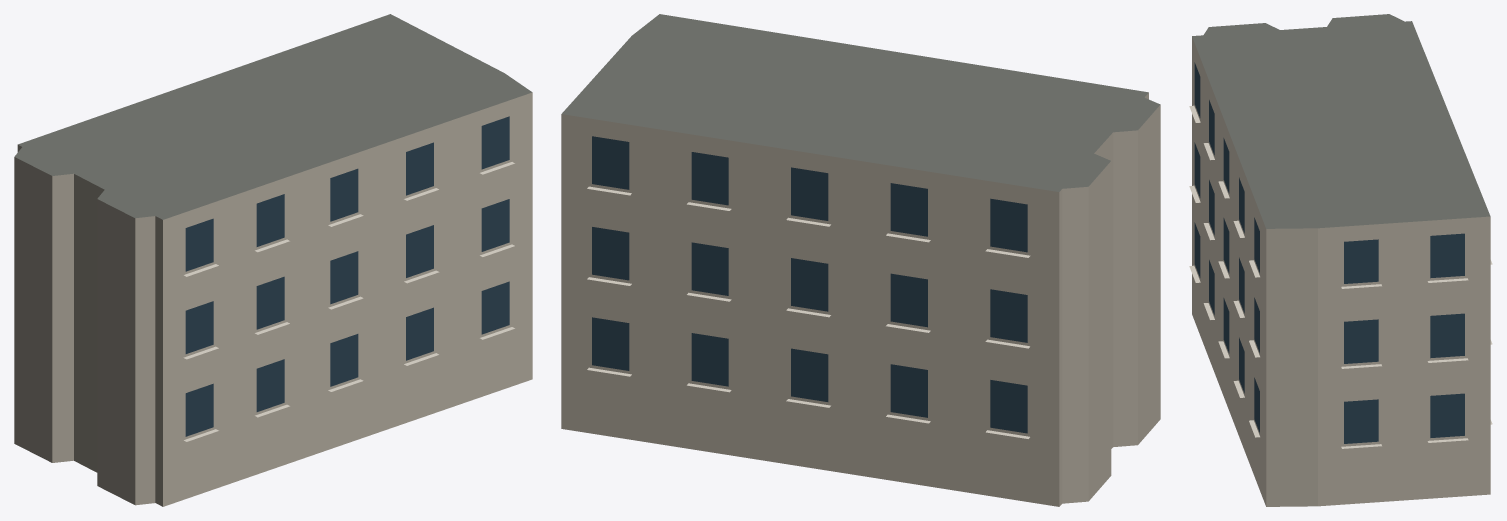
3 renders of one model, left to right at view 1: azimuth 30°, elevation 25°; view 2: azimuth 150°, elevation 25°; view 3: azimuth 270°, elevation 25°, orthographic. The views are drawn at different scales.
Parts seen in each view (by area): view 1: Footprint 0, Inferred window bays, Window sills; view 2: Footprint 0, Inferred window bays, Window sills; view 3: Footprint 0, Inferred window bays, Window sills.
Part boxes in pixels (x1,y1,x2,y2): Footprint 0: (14,14,532,506); Inferred window bays: (185,116,509,436); Window sills: (183,162,514,441); Footprint 0: (561,14,1160,506); Inferred window bays: (592,136,1027,433); Window sills: (587,186,1030,438); Footprint 0: (1192,14,1490,506); Inferred window bays: (1194,62,1464,443); Window sills: (1189,105,1492,448).
Bounding box in the file's own units: 18.03 × 10.85 × 10.73.
